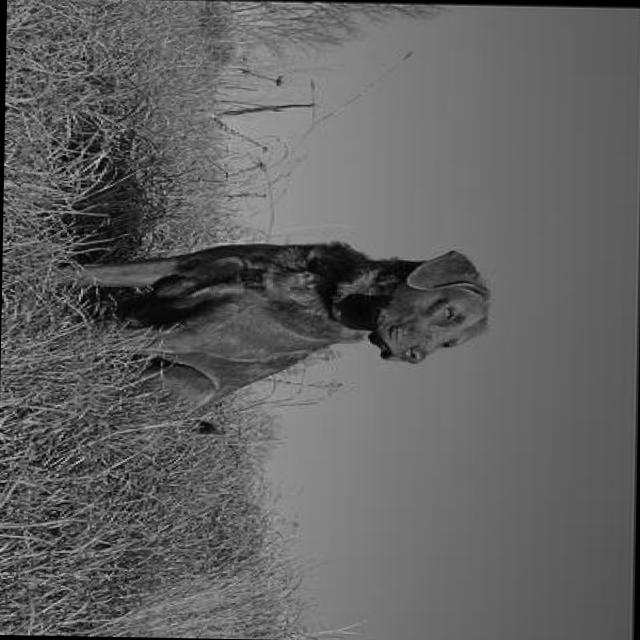sitting: (41, 237, 500, 446)
